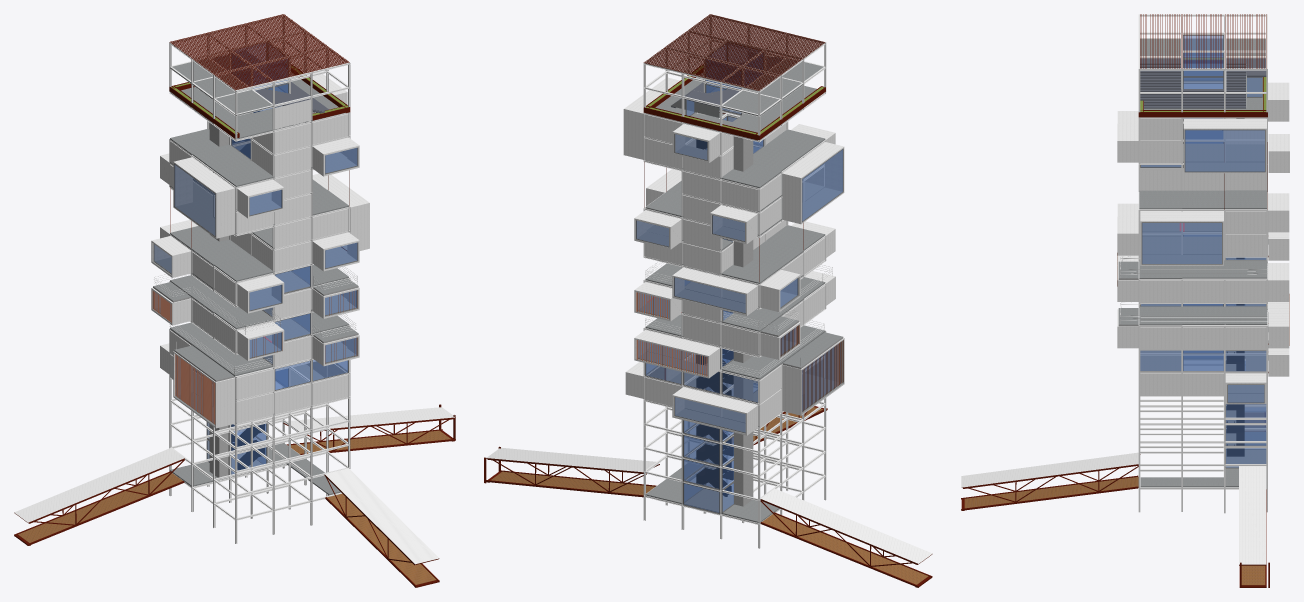
Rendered from GLB04.glb.
The picture shows the model from 3 angles, left to right: view 1: azimuth 30°, elevation 25°; view 2: azimuth 150°, elevation 25°; view 3: azimuth 270°, elevation 25°; orthographic projection. The views are drawn at different scales.
Parts seen in each view (by area): view 1: Glazing (×12), LOSETA (×6), object 1287, object 1140, object 1157, object 1158, object 10, object 1141, Columna#1 (×2), object 1170, object 596, object 11 (+38 smaller); view 2: Glazing (×12), LOSETA (×10), object 1287, object 567, object 1157, object 95, object 94, object 10, object 1158, object 97, object 596, Columna#1 (×2) (+28 smaller); view 3: Glazing (×14), LOSETA (×11), object 10, object 1140, object 1170, object 1300, object 1141, object 97, object 389, object 595, object 82, object 1174 (+39 smaller).
Part boxes in pixels (left/top/right/bottom): Glazing (×12): left=174, top=148, right=357, bottom=422; LOSETA (×6): left=170, top=58, right=250, bottom=486; object 1287: left=173, top=157, right=234, bottom=238; object 1140: left=324, top=468, right=439, bottom=565; object 1157: left=14, top=448, right=184, bottom=523; object 1158: left=18, top=472, right=182, bottom=542; object 10: left=285, top=407, right=455, bottom=431; object 1141: left=327, top=493, right=436, bottom=584; Columna#1 (×2): left=272, top=122, right=312, bottom=534; object 1170: left=312, top=173, right=369, bottom=250; object 596: left=173, top=351, right=234, bottom=428; object 11: left=288, top=430, right=450, bottom=453; Glazing (×12): left=636, top=134, right=842, bottom=512; LOSETA (×10): left=645, top=74, right=803, bottom=522; object 1287: left=782, top=142, right=844, bottom=224; object 567: left=733, top=136, right=753, bottom=506; object 1157: left=760, top=488, right=932, bottom=564; object 95: left=672, top=387, right=757, bottom=435; object 94: left=672, top=267, right=757, bottom=315; object 10: left=486, top=447, right=658, bottom=473; object 1158: left=762, top=514, right=928, bottom=584; object 97: left=634, top=330, right=719, bottom=378; object 596: left=782, top=338, right=844, bottom=415; Columna#1 (×2): left=681, top=122, right=722, bottom=539; Glazing (×14): left=1140, top=35, right=1266, bottom=467; LOSETA (×11): left=1140, top=38, right=1267, bottom=487; object 10: left=1239, top=466, right=1266, bottom=565; object 1140: left=961, top=452, right=1138, bottom=488; object 1170: left=1140, top=211, right=1223, bottom=265; object 1300: left=1183, top=119, right=1266, bottom=173; object 1141: left=964, top=477, right=1138, bottom=508; object 97: left=1268, top=302, right=1289, bottom=348; object 389: left=1138, top=110, right=1267, bottom=117; object 595: left=1225, top=373, right=1266, bottom=404; object 82: left=1140, top=373, right=1181, bottom=395; object 1174: left=1225, top=234, right=1267, bottom=256.
Size of the model in its own units: 56.76 by 57.64 by 38.57.
Materials: 18 (11 with a texture image).
